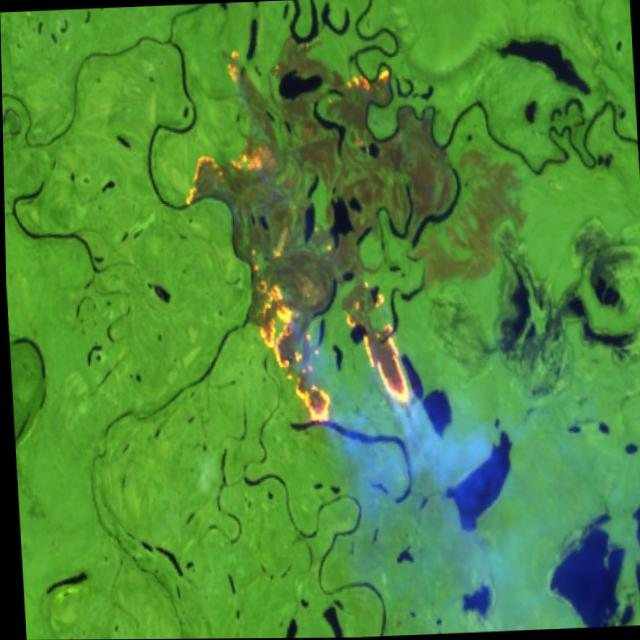fire: (170, 39, 428, 430)
